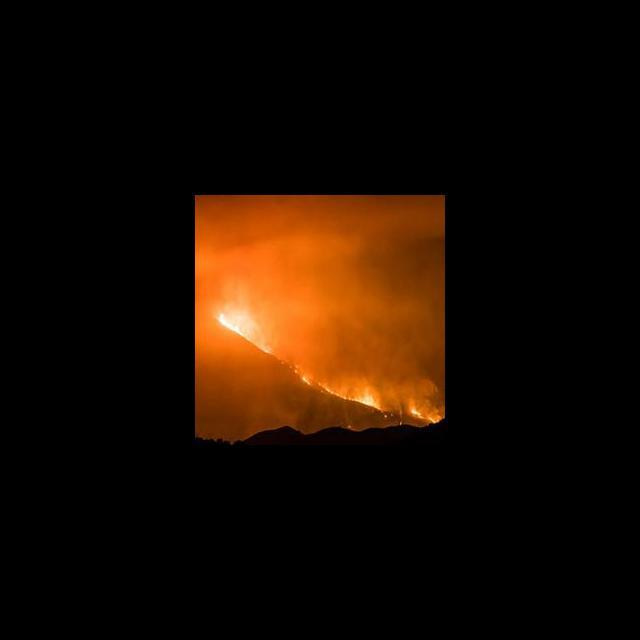Fire: (304, 376, 381, 411), (216, 316, 272, 355), (411, 406, 435, 421)
